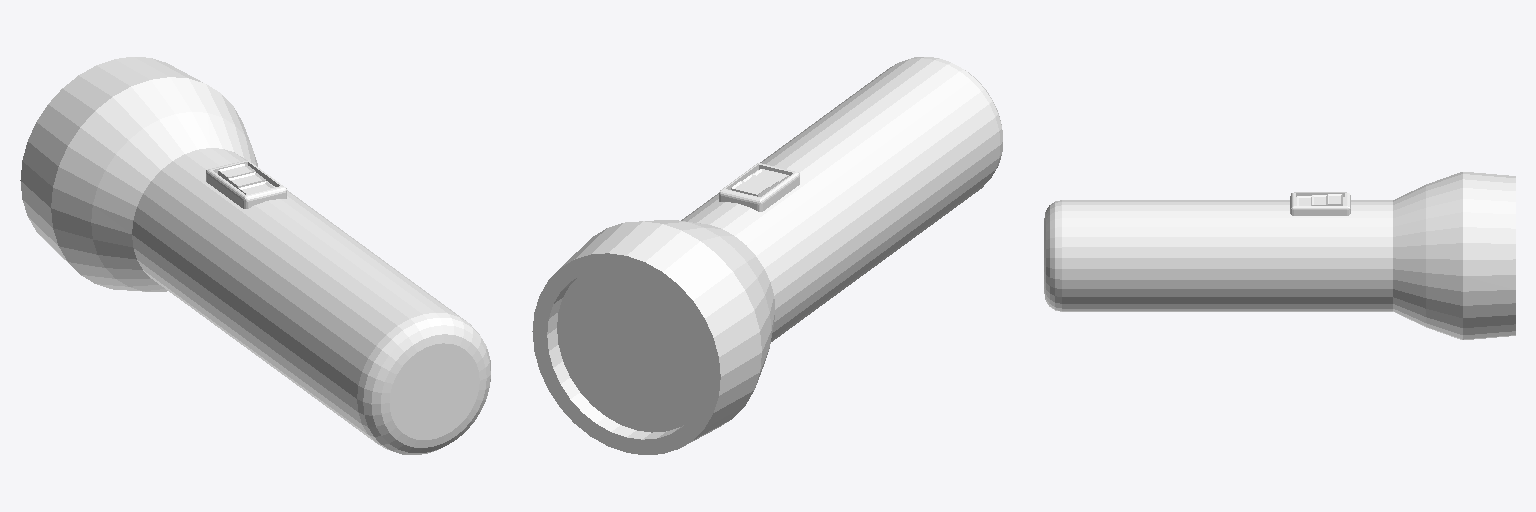
The robot description file, URDF, robot "flashlight":
<?xml version="0.0" ?>
<robot name="flashlight">
  <link name="base">
    <inertial>
        <origin rpy="0 0 0" xyz="0 0 0"/>
        <mass value="1.0"/>
        <inertia ixx="1" ixy="0" ixz="0" iyy="1" iyz="0" izz="1"/>
    </inertial>
   <visual>
     <origin rpy="0 0 0" xyz="0 0 0"/>
     <geometry>
       <mesh filename="flashlight.obj" scale="1 1 1"/>
     </geometry>
      <material name="white">
       <color rgba="1 1 1 1"/>
     </material>
   </visual>
   <collision>
     <origin rpy="0 0 0" xyz="0 0 0"/>
     <geometry>
       <mesh filename="flashlight_vhacd.obj" scale="1 1 1"/>
     </geometry>
   </collision>
  </link>
  <link name="grasp">
    <inertial>
      <origin rpy="0 0 0" xyz="0 0 0"/>
       <mass value="0.0"/>
       <inertia ixx="1" ixy="0" ixz="0" iyy="1" iyz="0" izz="1"/>
    </inertial>
  </link>
  <joint name="base__grasp" type="fixed">
    <origin xyz="0.0 0.0 0.0" rpy="0.0 0.0 0.0"/>
    <parent link="base"/>
    <child link="grasp"/>
  </joint>
</robot>

--- Render facts (derived) ---
3 views of the same robot in one strip: view 1: azimuth 30°, elevation 25°; view 2: azimuth 150°, elevation 25°; view 3: azimuth 270°, elevation 25° (orthographic).
Robot: flashlight — 2 links, 1 joints (1 fixed); root link base; default pose: every joint at zero.
Links seen in each view (by area): view 1: base; view 2: base; view 3: base.
Link boxes in pixels (bbox=[...]): base: bbox=[20, 57, 490, 454]; base: bbox=[532, 57, 1002, 454]; base: bbox=[1044, 172, 1515, 339].
Bounding box of the posed robot: 0.0605 × 0.1686 × 0.0605 m (x, y, z).
1 mesh visuals loaded from 1 distinct referenced files (1 OBJ).